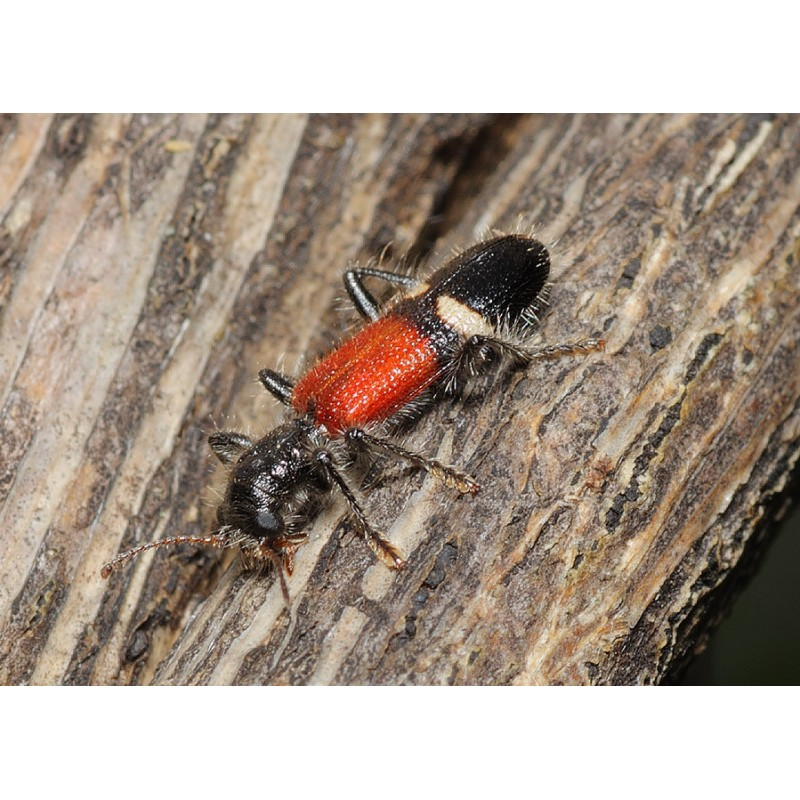opilo_taeniatus: (99, 198, 614, 611)
